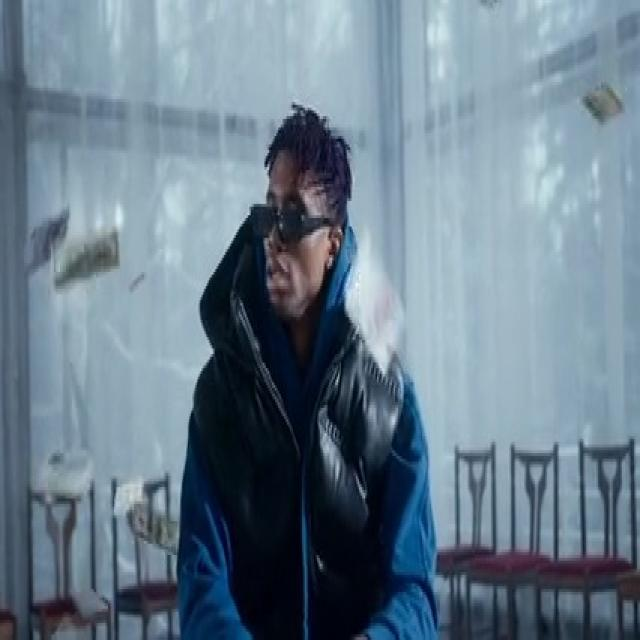Jacket_Wearer: (198, 266, 413, 640)
Person: (158, 104, 443, 640)
